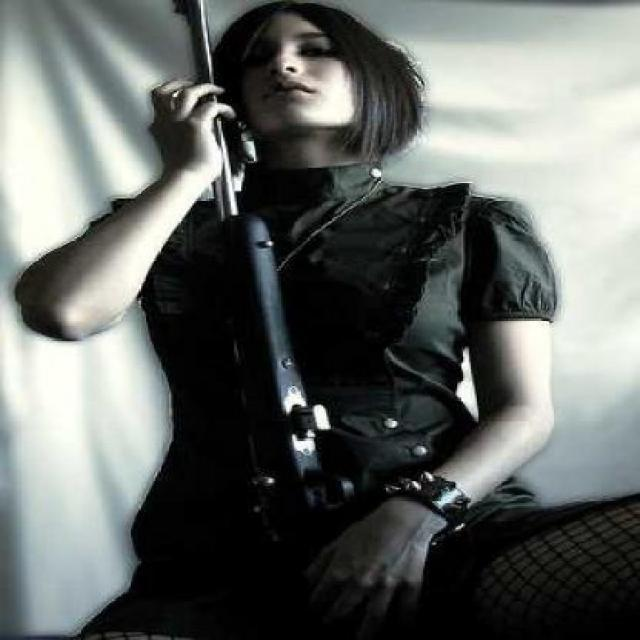weapon: (164, 0, 357, 565)
